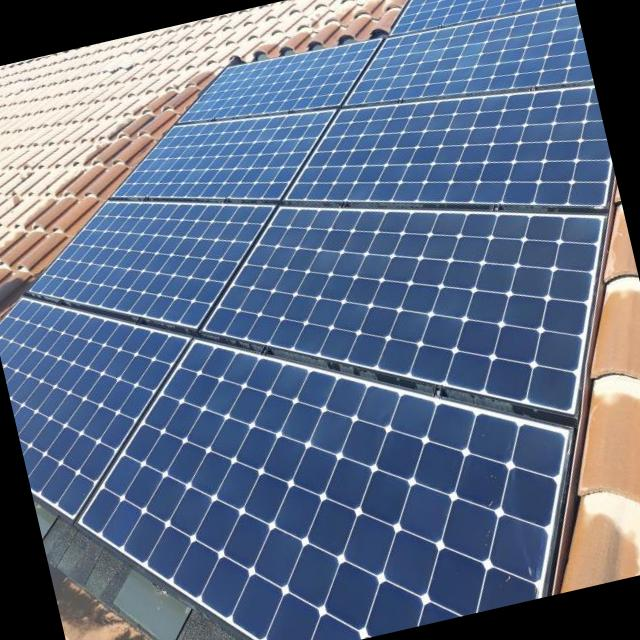no faulty: (72, 342, 561, 640), (199, 207, 597, 406), (0, 299, 194, 521), (283, 97, 609, 216), (29, 202, 268, 328), (335, 5, 588, 111), (108, 113, 329, 205), (176, 42, 376, 117), (390, 0, 558, 39)
